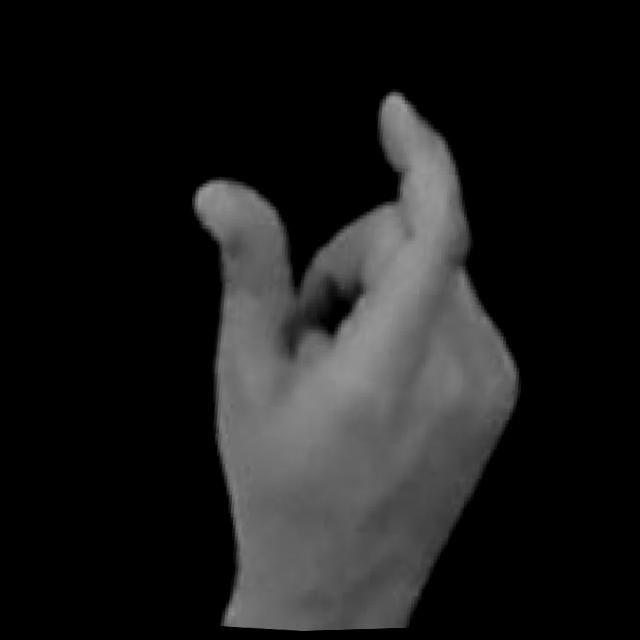U: (158, 57, 550, 561)
